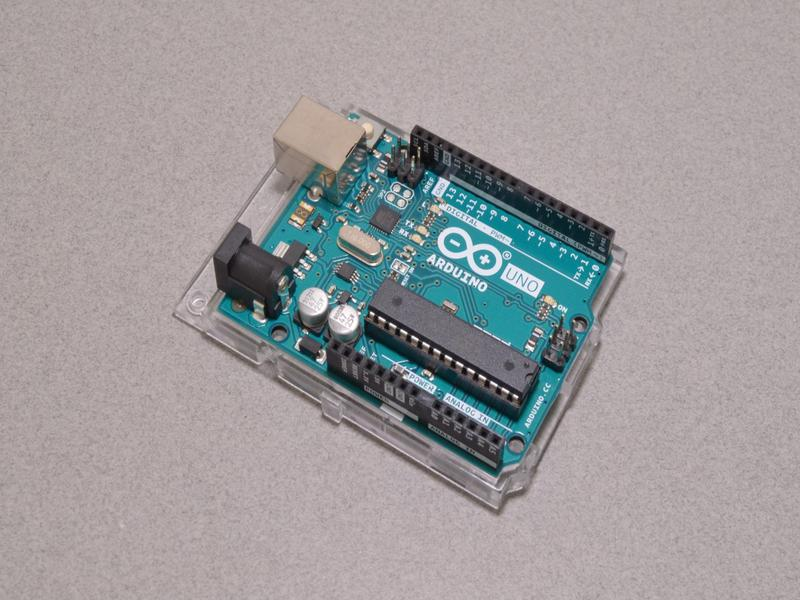Arduino UNO: (206, 92, 621, 474)
